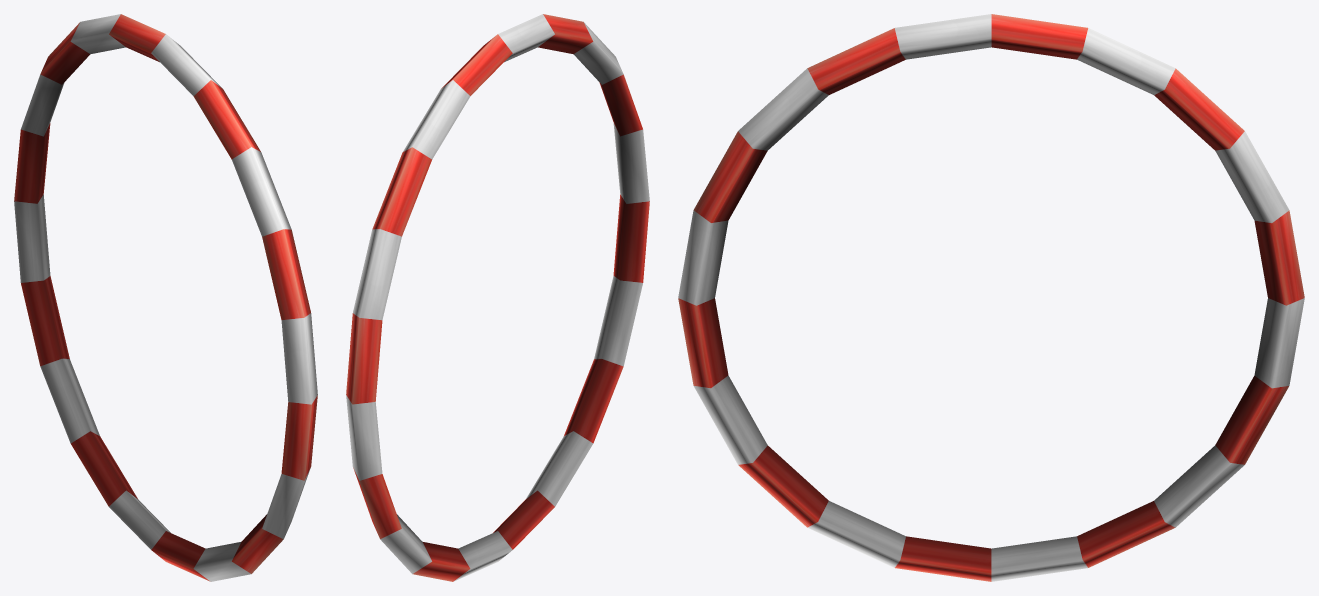
Rendered from hoop.fbx.
The picture shows the model from 3 angles, left to right: view 1: azimuth 30°, elevation 25°; view 2: azimuth 150°, elevation 25°; view 3: azimuth 270°, elevation 25°; orthographic projection. The views are drawn at different scales.
Parts seen in each view (by area): view 1: hoop; view 2: hoop; view 3: hoop.
Boxes of the visible parts, x1=… form: hoop: x1=14, y1=14, x2=317, y2=581; hoop: x1=346, y1=14, x2=649, y2=581; hoop: x1=678, y1=14, x2=1304, y2=581.
Bounding box in the file's own units: 2 × 34 × 34.
